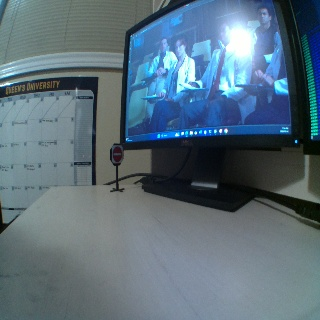sign_noentry: (110, 143, 123, 162)
